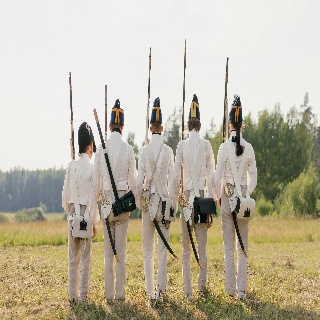rifle: (179, 37, 190, 140), (144, 46, 153, 145), (67, 70, 76, 160), (222, 55, 231, 144), (102, 84, 111, 141)
